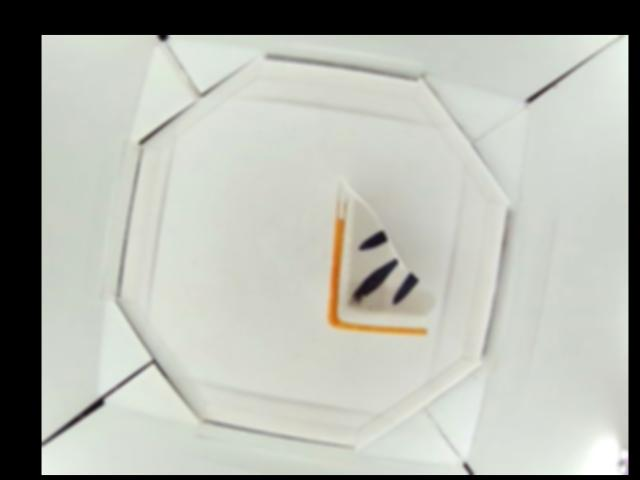China: (326, 178, 440, 335)
